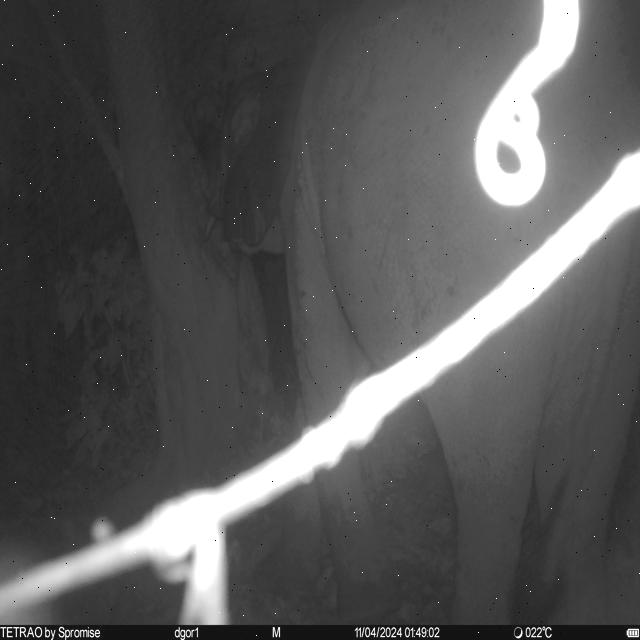ear: (228, 41, 316, 247)
elephant: (203, 1, 640, 626)
tusk: (203, 215, 217, 240)
